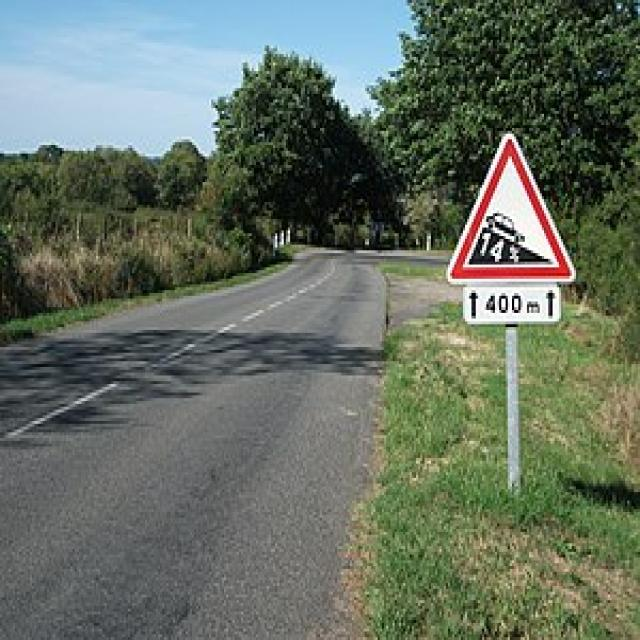slope_danger: (445, 127, 579, 285)
